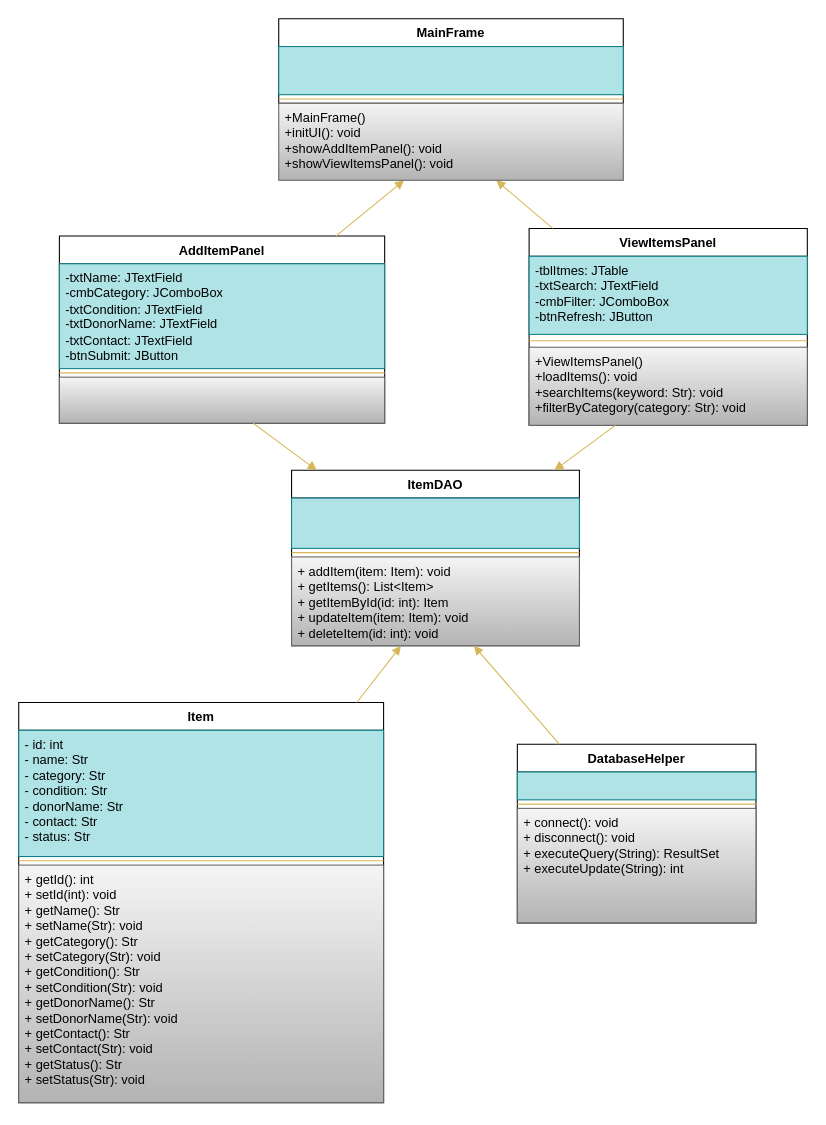
This 826x1125 diagram has some shape labels left out. Here are the shapes that lost their labels. From the top down, the centre of each, then its label:
the point at 450,70: -addItemPanel: AddItemPanel -viewItemsPanel: ViewItemsPanel
the point at 221,399: +AddItemPanel() +SubmitForm(): void
the point at 435,522: - dbHelper: DatabaseHelper - connection: Connection
the point at 636,785: -connection: Connection
